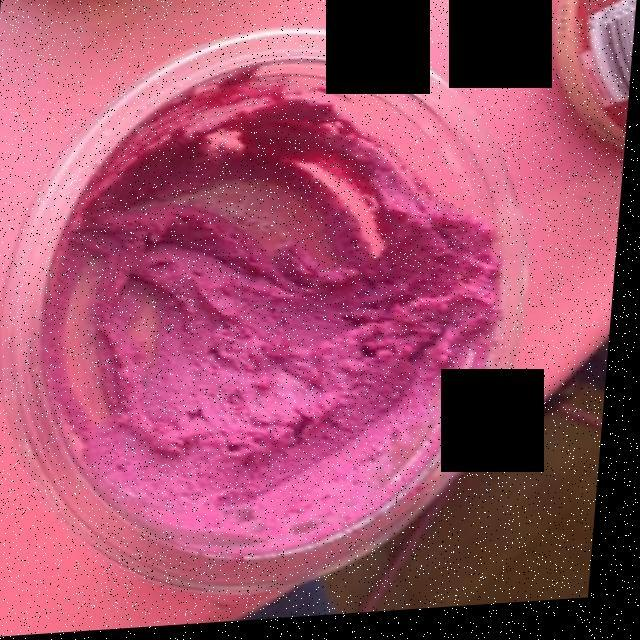hummus: (32, 81, 502, 558)
